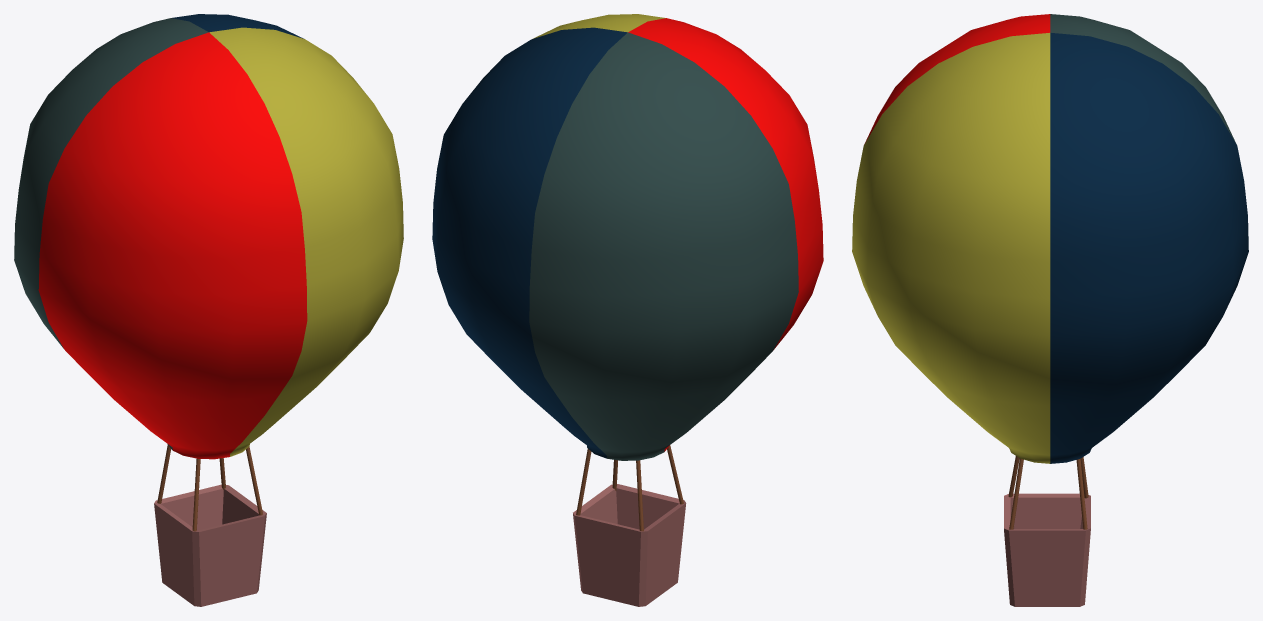
File: lowpoly_baloon.glb
The picture shows the model from 3 angles, left to right: view 1: azimuth 30°, elevation 25°; view 2: azimuth 150°, elevation 25°; view 3: azimuth 270°, elevation 25°; orthographic projection.
Parts seen in each view (by area): view 1: Baloon, Cabin; view 2: Baloon, Cabin; view 3: Baloon, Cabin.
Part boxes in pixels (x1,y1,x2,y2): Baloon: (14, 14, 403, 531); Cabin: (154, 484, 266, 606); Baloon: (432, 14, 823, 531); Cabin: (573, 484, 686, 606); Baloon: (852, 14, 1248, 529); Cabin: (1004, 493, 1090, 606).
Bounding box in the file's own units: 6.45 × 10.01 × 6.45.
